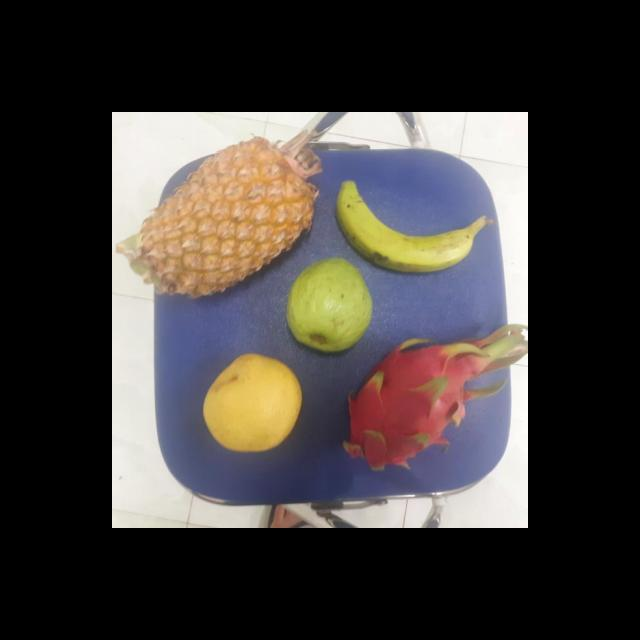banana: (329, 184, 477, 272)
guava: (281, 259, 371, 351)
pear: (200, 349, 302, 450)
pineapple: (132, 142, 308, 297)
pitaya: (347, 338, 463, 470)
